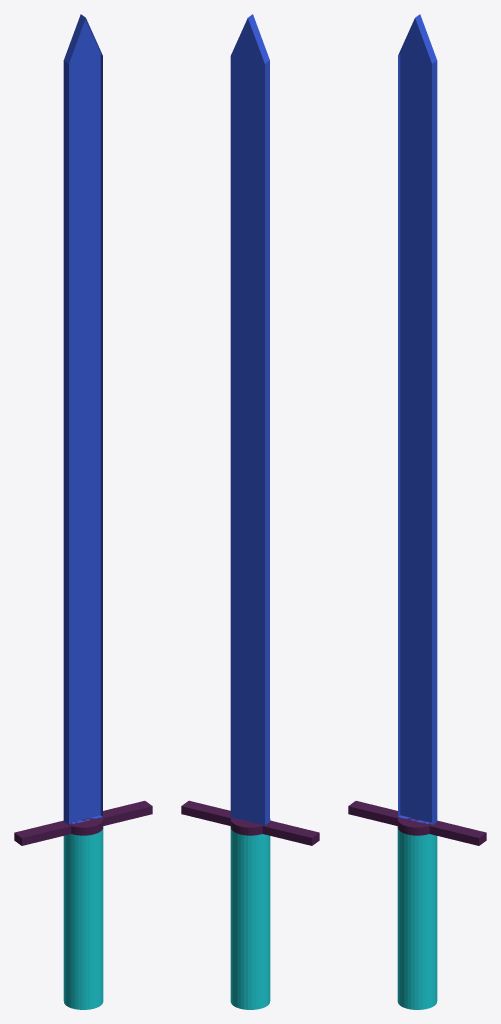
The model's file is Espada.fbx.
3 views of the same model, side by side, from view 1: azimuth 30°, elevation 25°; view 2: azimuth 150°, elevation 25°; view 3: azimuth 330°, elevation 25° (orthographic).
Visible parts, largest first — view 1: Cylinder; view 2: Cylinder; view 3: Cylinder.
Boxes of the visible parts, x1=… form: Cylinder: x1=14, y1=14, x2=152, y2=1009; Cylinder: x1=181, y1=14, x2=319, y2=1009; Cylinder: x1=348, y1=14, x2=486, y2=1009.
Bounding box in the file's own units: 766 × 5512 × 200.
